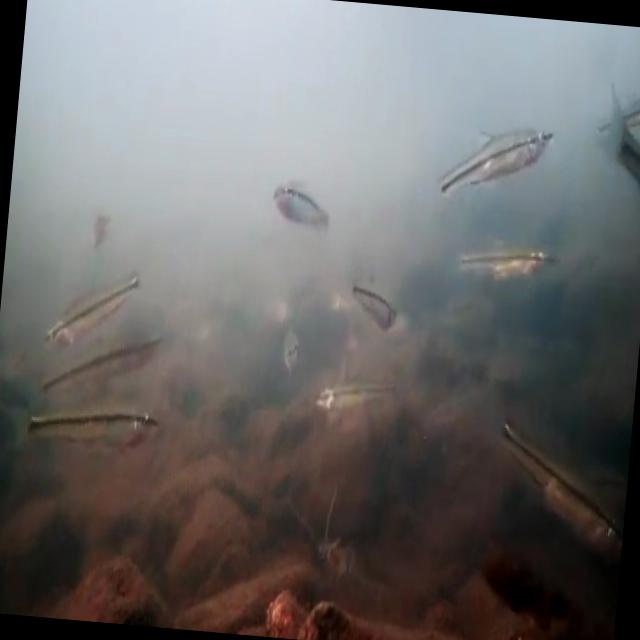Cakil Baligi: (431, 110, 556, 217), (18, 398, 166, 466), (441, 239, 556, 288), (314, 368, 398, 419), (267, 177, 334, 236)
